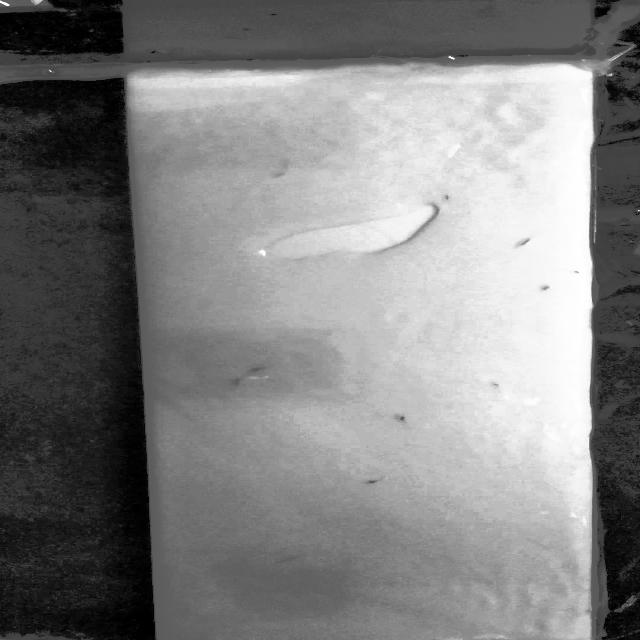shrimp: (264, 550, 314, 566), (364, 470, 396, 488), (509, 232, 536, 252), (392, 413, 415, 430), (244, 365, 272, 377), (528, 279, 556, 291), (546, 267, 584, 274), (230, 377, 248, 386), (481, 381, 504, 388), (446, 193, 452, 201)
